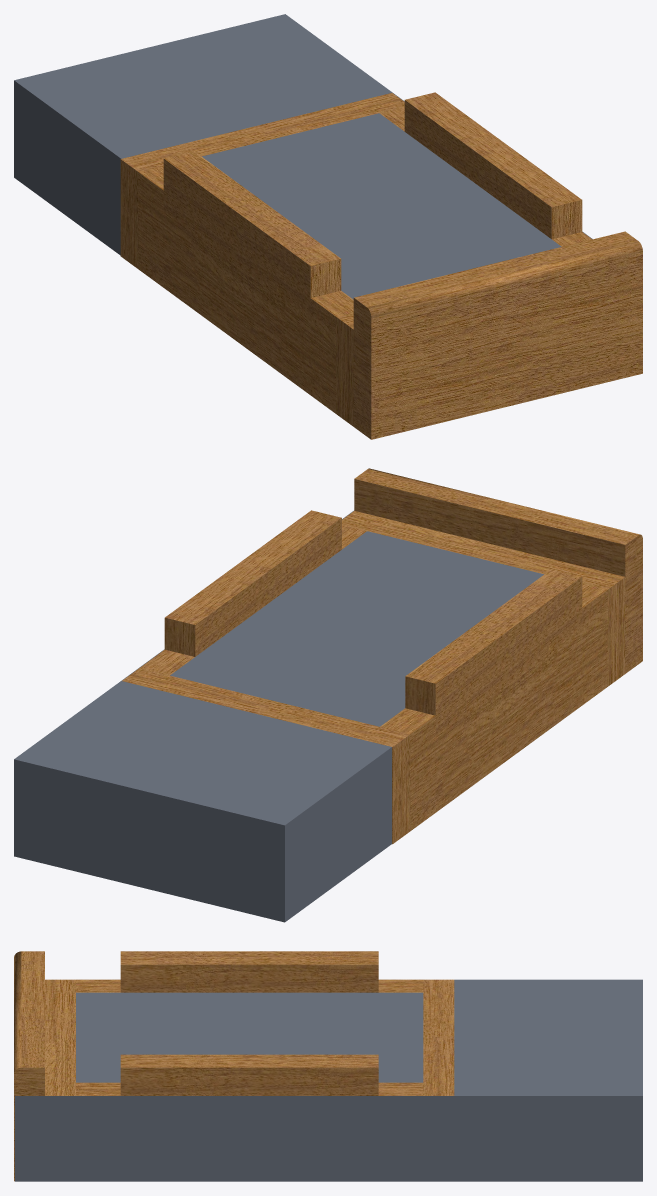
File: VCKS0080.glb
3 renders of one model, top to bottom at view 1: azimuth 30°, elevation 25°; view 2: azimuth 150°, elevation 25°; view 3: azimuth 270°, elevation 25°, orthographic. The views are drawn at different scales.
Parts seen in each view (by area): view 1: G-Group#137, _bb.004; view 2: _bb.004, G-Group#137; view 3: _bb.004, G-Group#137.
Part boxes in pixels (bbox=[...]): G-Group#137: bbox=[120, 92, 642, 439]; _bb.004: bbox=[14, 14, 592, 299]; _bb.004: bbox=[14, 510, 543, 922]; G-Group#137: bbox=[122, 468, 642, 844]; _bb.004: bbox=[15, 979, 642, 1181]; G-Group#137: bbox=[14, 951, 454, 1181].
Bounding box in the file's own units: 0.1112 × 0.0505 × 0.2535.
Materials: 3 (2 with a texture image).
